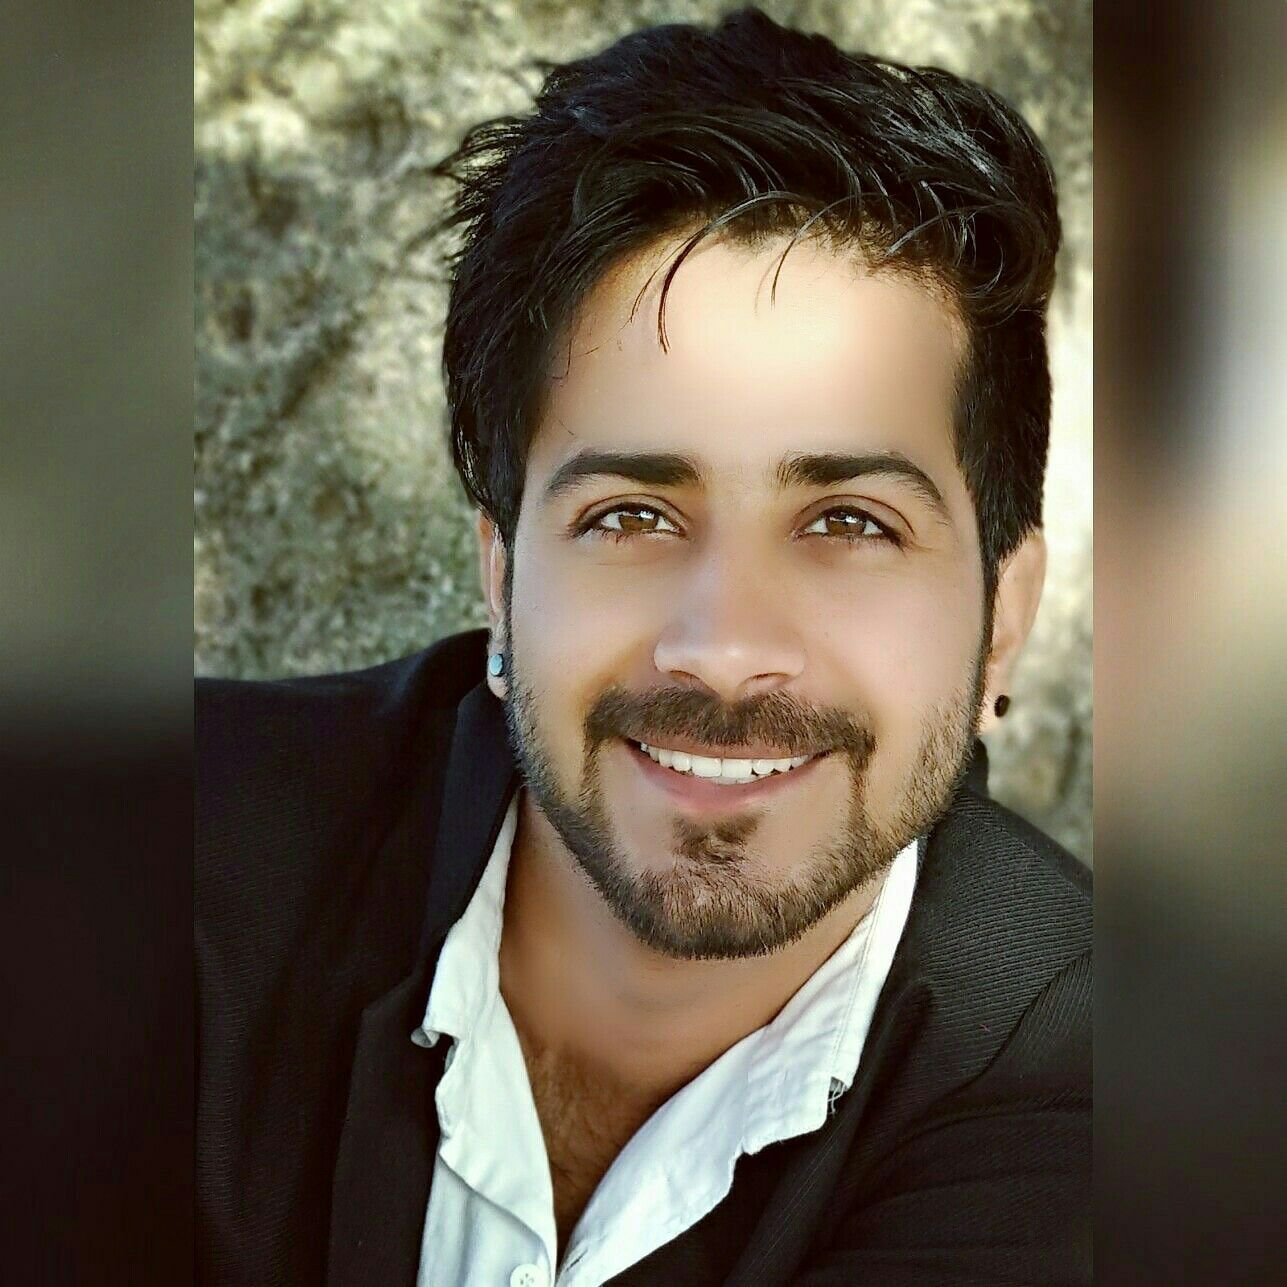noMask: (401, 23, 1101, 949)
